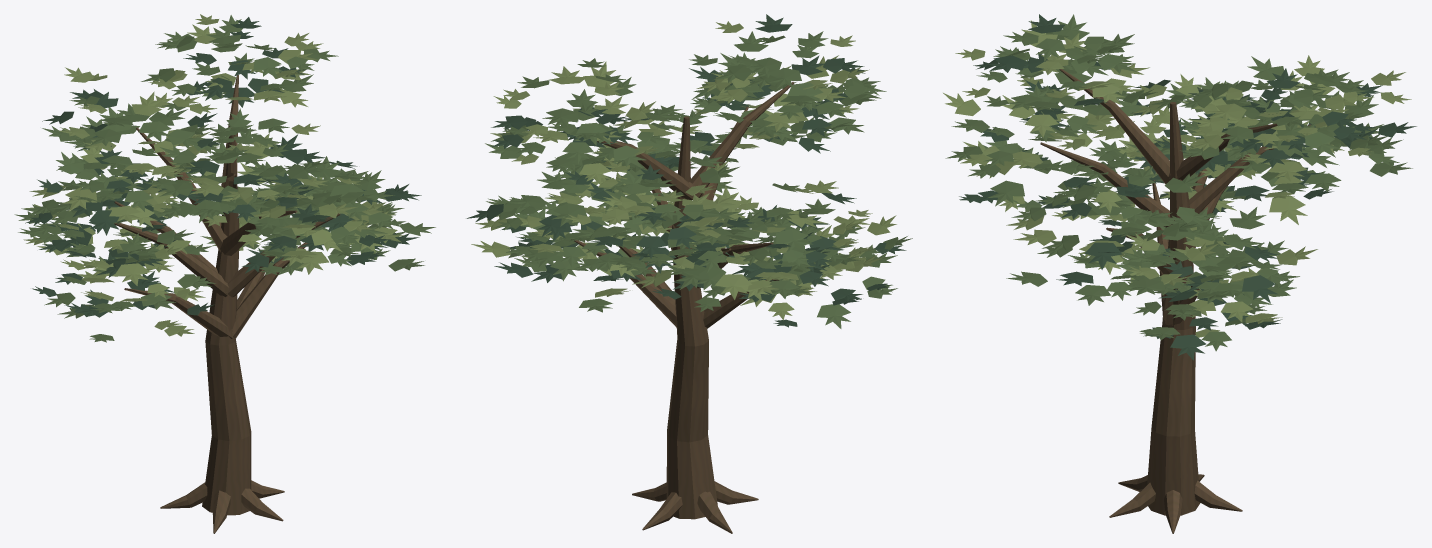
File: NA_Broadleaf_1.glb
3 renders of one model, left to right at view 1: azimuth 30°, elevation 25°; view 2: azimuth 150°, elevation 25°; view 3: azimuth 270°, elevation 25°, orthographic. The views are drawn at different scales.
Visible parts, largest first — view 1: NA_Broadleaf_1; view 2: NA_Broadleaf_1; view 3: NA_Broadleaf_1.
Boxes of the visible parts, left/top/right/bottom form: NA_Broadleaf_1: left=14, top=14, right=435, bottom=533; NA_Broadleaf_1: left=466, top=14, right=912, bottom=533; NA_Broadleaf_1: left=943, top=14, right=1416, bottom=533.
Size of the model in its own units: 2.7 by 2.92 by 2.78.
4 materials, 1 textured.
